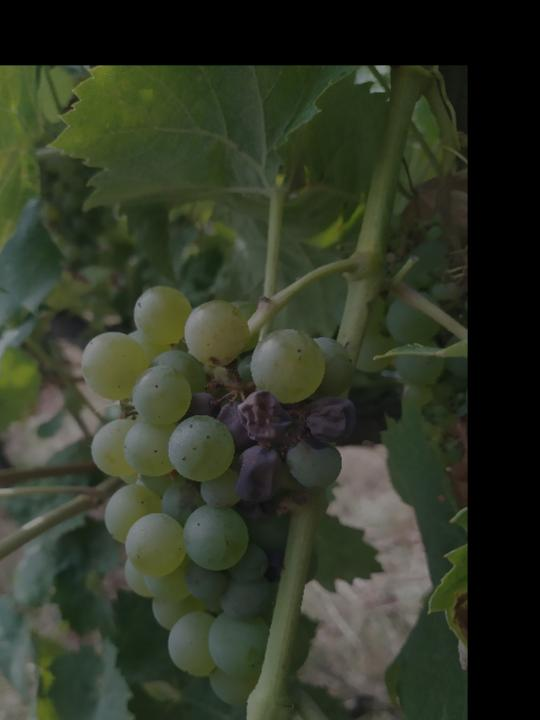grape: (79, 282, 357, 710)
